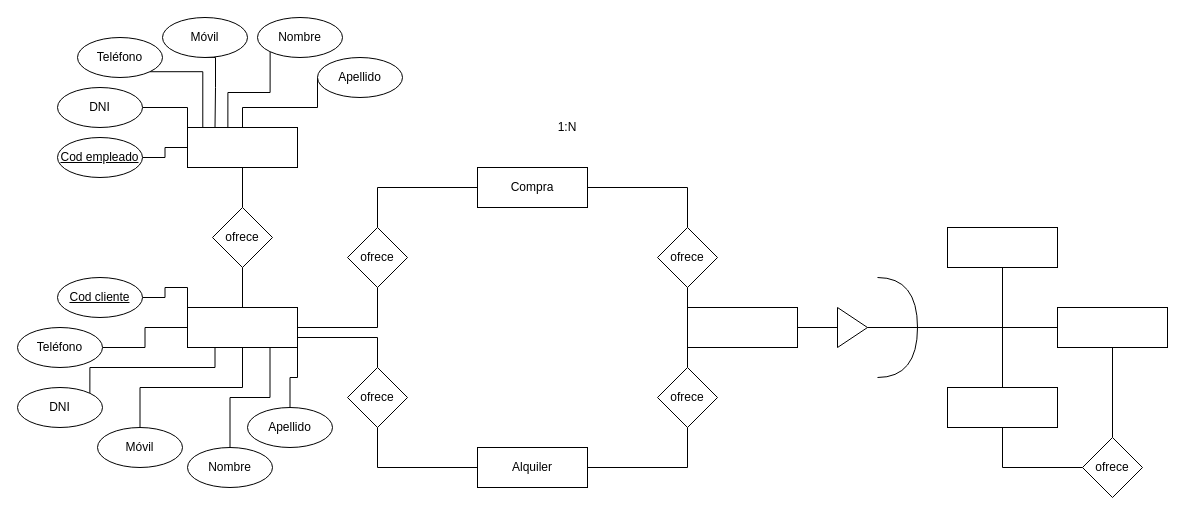
This 1185x515 diagram has some shape labels left out. Each missing label, with the centre of its shape:
Cliente: point 242,327
Empleado: point 242,147
Garajes: point 1002,407
Inmueble: point 742,327
Locales: point 1002,247
Pisos: point 1112,327
